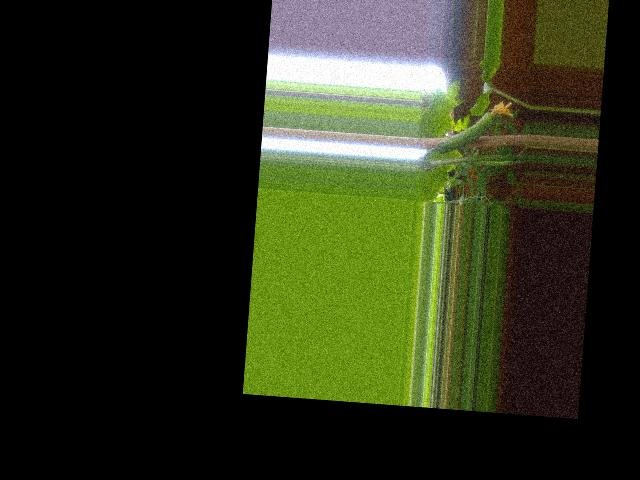cucumber: (437, 95, 514, 157)
